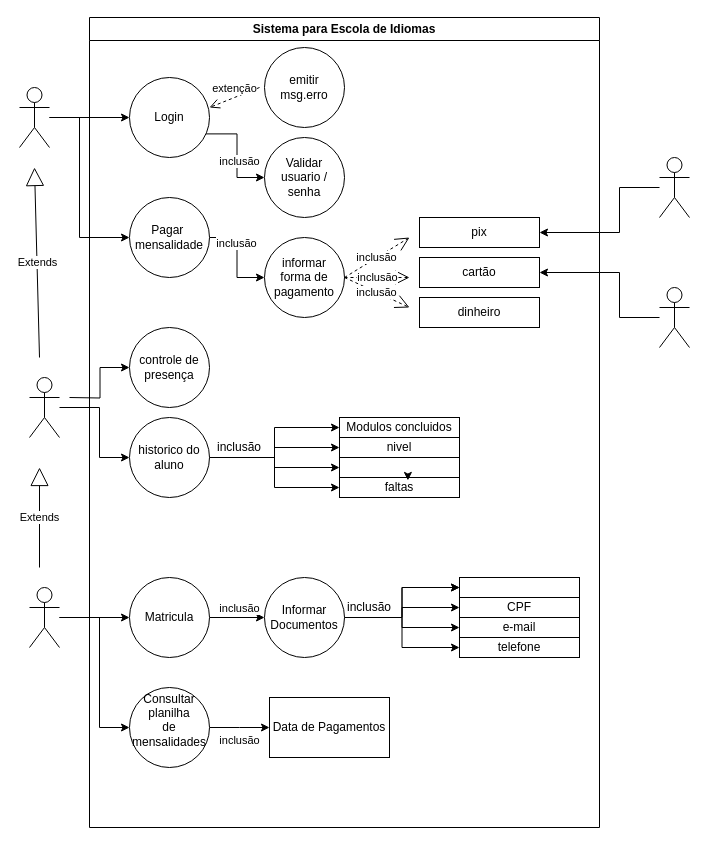
Image size: 717x845. Some labels were removed from this diagram. The shapes that lost their labels are listed below. From the top down, each one's centre as x and y in pixels, then its label:
At [34,117]: "cliente".
At [674,187]: "Sistema Bancário".
At [674,317]: "Operador".
At [44,407]: "professor".
At [399,467]: "reprovação".
At [519,587]: "RG".
At [44,617]: "Actor".
